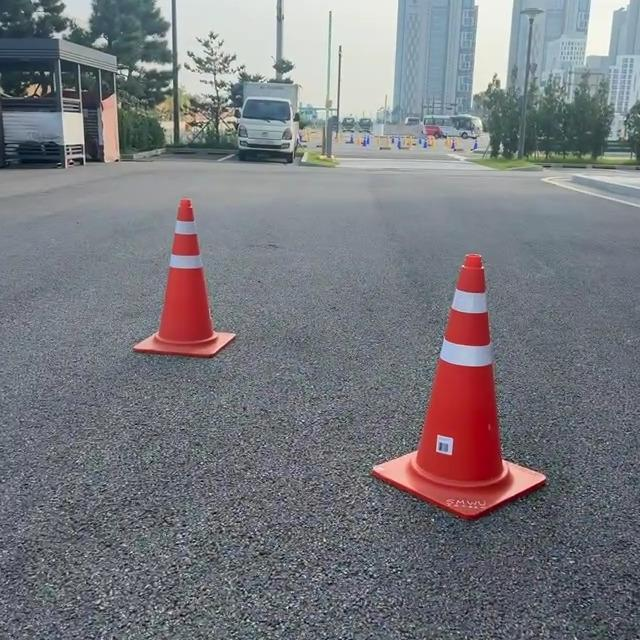fallen_object: (345, 236, 586, 555), (155, 196, 286, 385)
